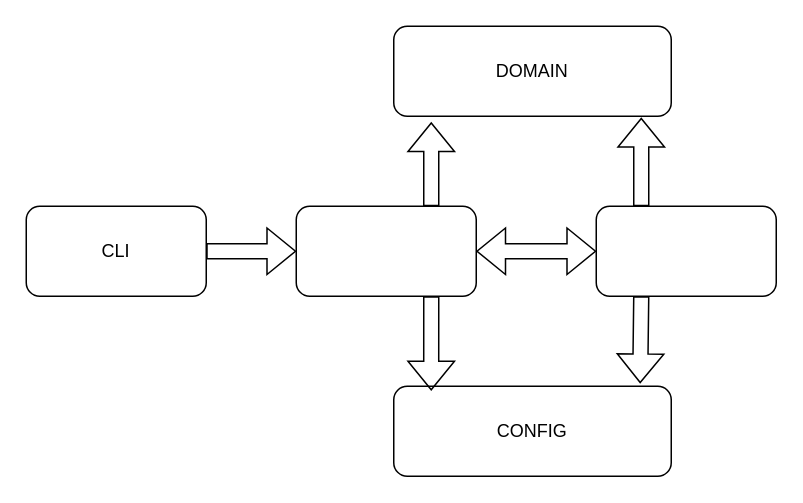
Image size: 803x503. Some labels were removed from this diagram. The shapes that lost their labels are listed below. From the top down, each one's centre as x and y in pixels, then its label:
At (x=385, y=250): "APPLICATION".
At (x=685, y=250): "INFRASTRUCTURE".
